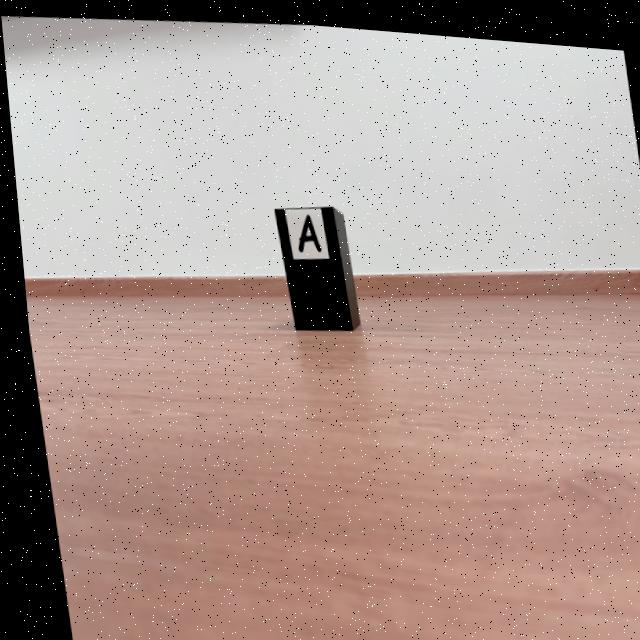A: (294, 210, 317, 248)
